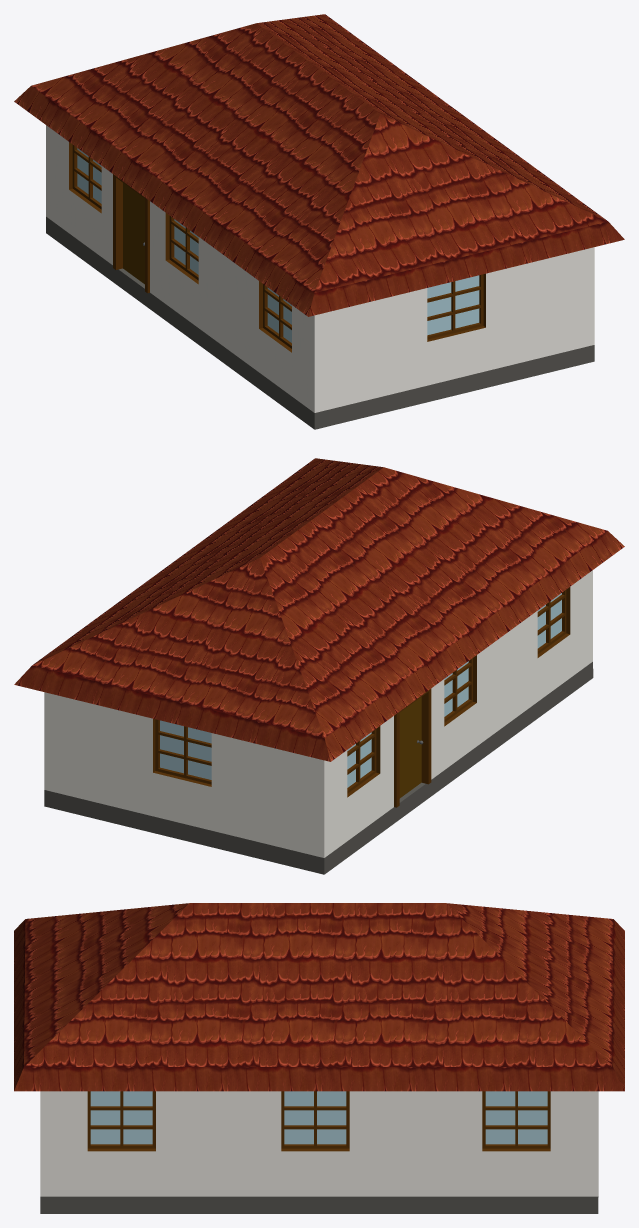
The model's file is House.fbx.
3 views of the same model, one above another, from view 1: azimuth 30°, elevation 25°; view 2: azimuth 150°, elevation 25°; view 3: azimuth 270°, elevation 25° (orthographic). The views are drawn at different scales.
Visible parts, largest first — view 1: House.001, House; view 2: House.001, House; view 3: House.001, House.
Boxes of the visible parts, x1=… form: House.001: x1=14, y1=14, x2=624, y2=316; House: x1=46, y1=125, x2=594, y2=429; House.001: x1=14, y1=458, x2=624, y2=761; House: x1=44, y1=570, x2=593, y2=874; House.001: x1=14, y1=903, x2=624, y2=1091; House: x1=40, y1=1091, x2=598, y2=1213.
Size of the model in its own units: 190 by 132 by 306.
